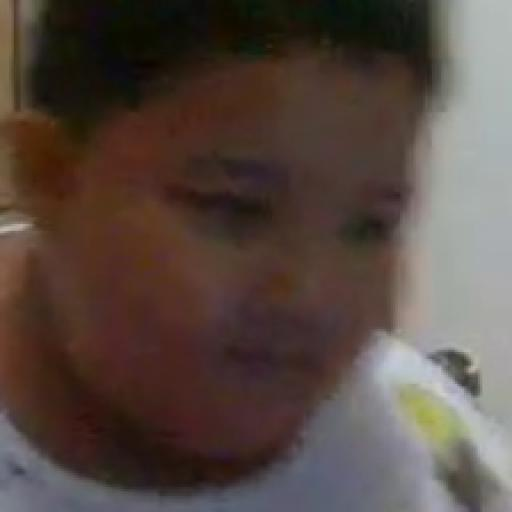Autism: (0, 4, 512, 512)
